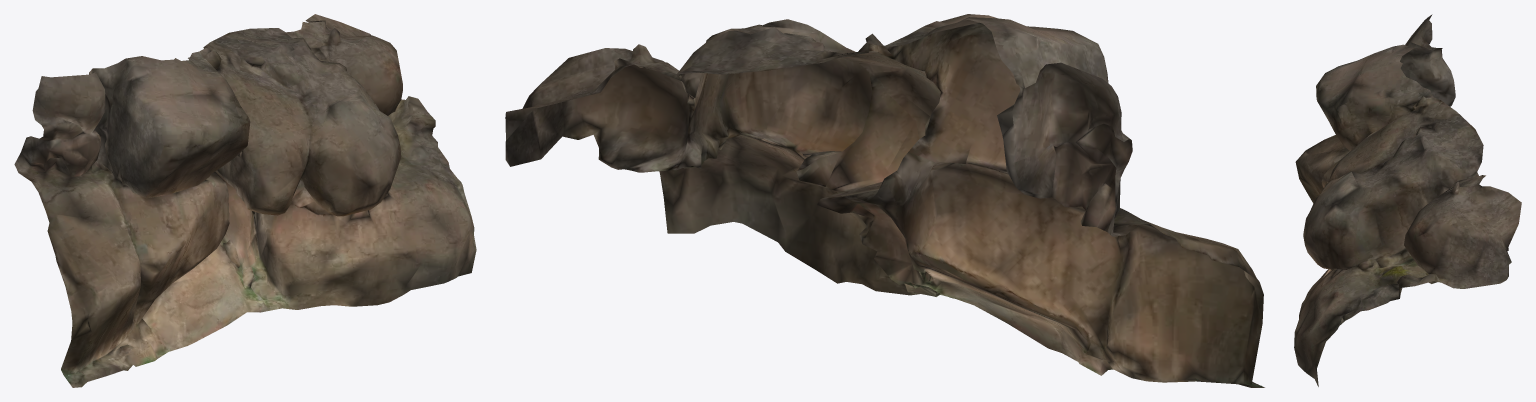
The model's file is namaqualand_cliff_01.glb.
3 views of the same model, side by side, from view 1: azimuth 30°, elevation 25°; view 2: azimuth 150°, elevation 25°; view 3: azimuth 270°, elevation 25° (orthographic). The views are drawn at different scales.
Visible parts, largest first — view 1: drone_rock_01; view 2: drone_rock_01; view 3: drone_rock_01.
Part boxes in pixels (left/top/right/bottom): drone_rock_01: left=14, top=14, right=476, bottom=387; drone_rock_01: left=505, top=14, right=1264, bottom=387; drone_rock_01: left=1294, top=14, right=1521, bottom=386.
Bounding box in the file's own units: 8.26 × 4.95 × 4.37.
1 material, 1 textured.
